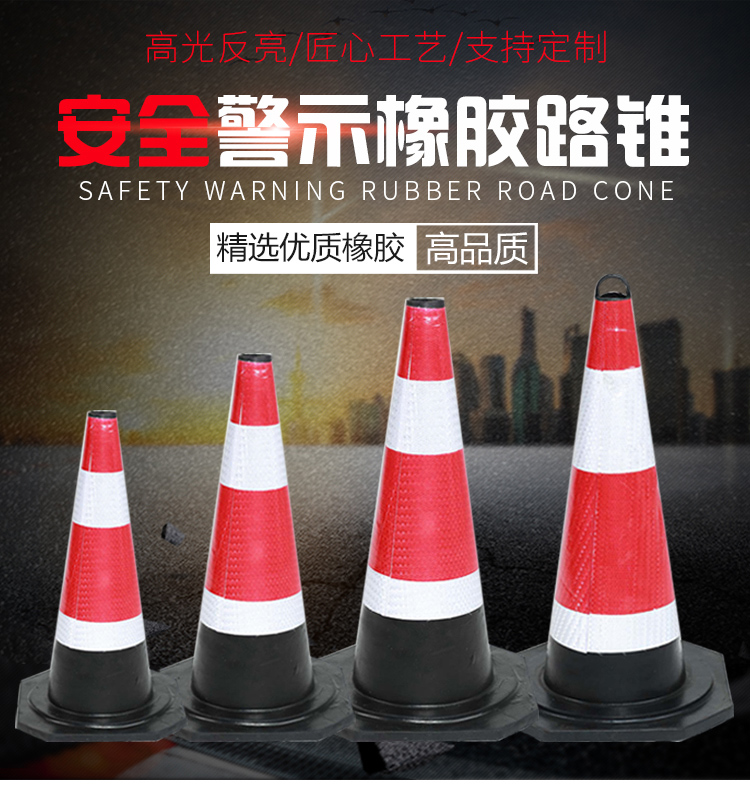traffic_cone: (516, 266, 737, 759), (321, 296, 538, 752), (155, 331, 349, 752), (20, 408, 181, 758)
